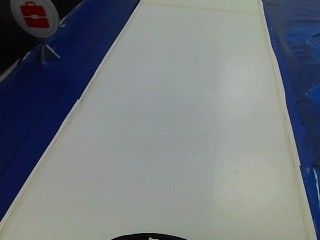company: (6, 0, 59, 38)
